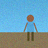person: (24, 15, 37, 41)
